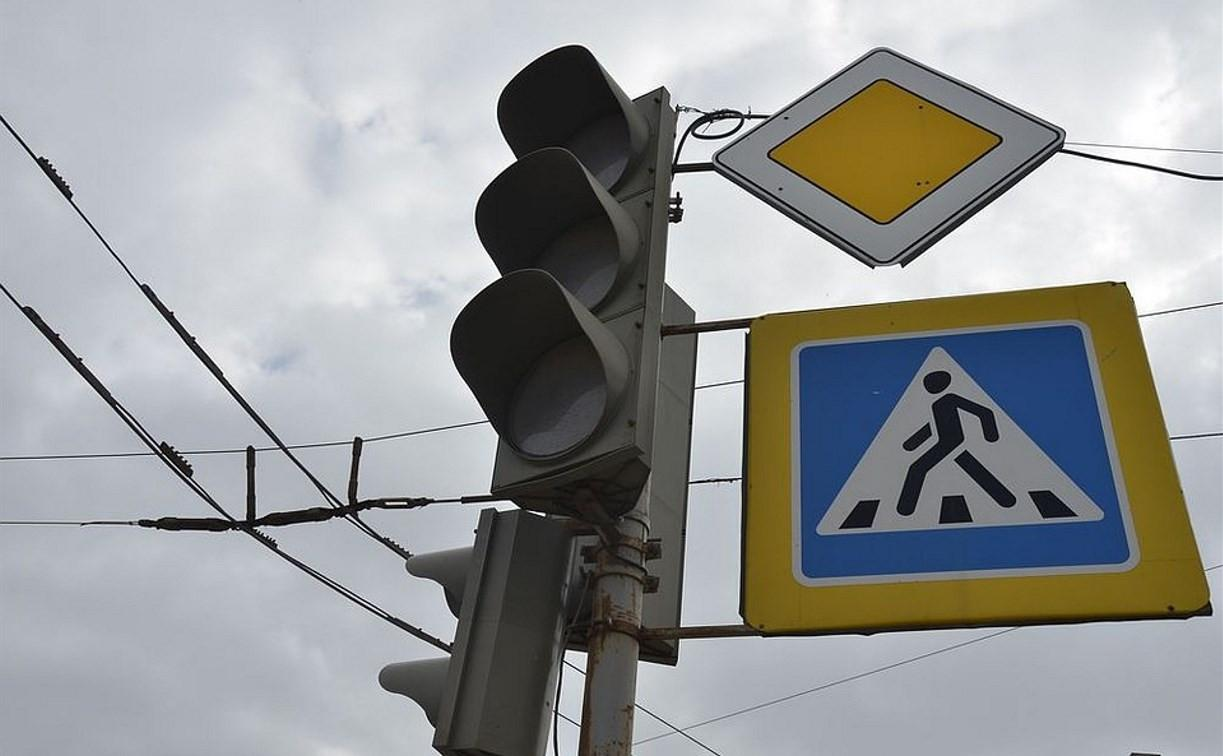off traffic light: (450, 44, 677, 499), (379, 509, 576, 755)
road_sign: (744, 283, 1210, 636), (713, 48, 1064, 268)
